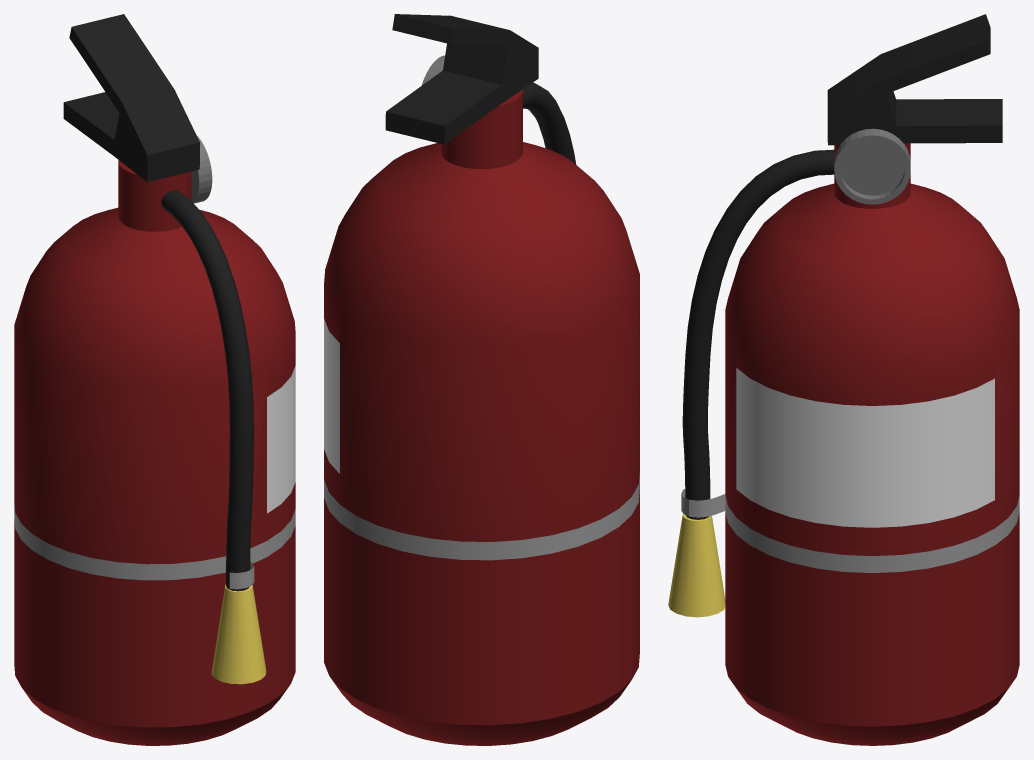
File: extinguisher.fbx
3 views of the same model, side by side, from view 1: azimuth 30°, elevation 25°; view 2: azimuth 150°, elevation 25°; view 3: azimuth 270°, elevation 25° (orthographic). The views are drawn at different scales.
Visible parts, largest first — view 1: Cylinder, Cube, BézierCurve, Cylinder.002, Cylinder.001; view 2: Cylinder, Cube, BézierCurve; view 3: Cylinder, Cube, BézierCurve, Cylinder.001, Cylinder.002.
Part boxes in pixels (bbox=[...]): Cylinder: bbox=[14, 160, 295, 745]; Cube: bbox=[63, 14, 199, 182]; BézierCurve: bbox=[161, 190, 253, 591]; Cylinder.002: bbox=[211, 584, 266, 684]; Cylinder.001: bbox=[191, 135, 212, 203]; Cylinder: bbox=[324, 89, 639, 745]; Cube: bbox=[385, 14, 538, 144]; BézierCurve: bbox=[523, 82, 576, 164]; Cylinder: bbox=[681, 143, 1019, 745]; Cube: bbox=[827, 14, 1002, 145]; BézierCurve: bbox=[682, 149, 834, 519]; Cylinder.001: bbox=[834, 128, 910, 204]; Cylinder.002: bbox=[668, 514, 725, 617].
Bounding box in the file's own units: 70.31 × 177 × 83.91.
